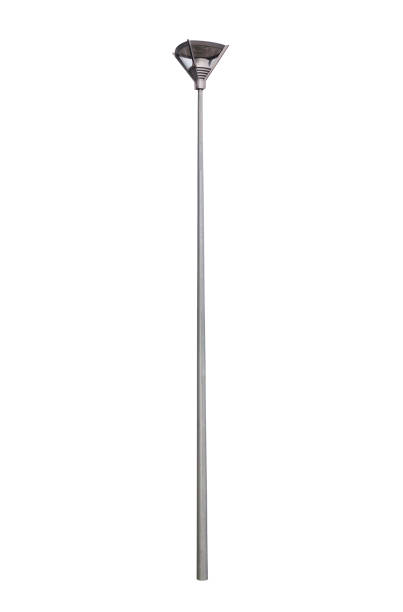light_pole: (195, 106, 205, 582)
